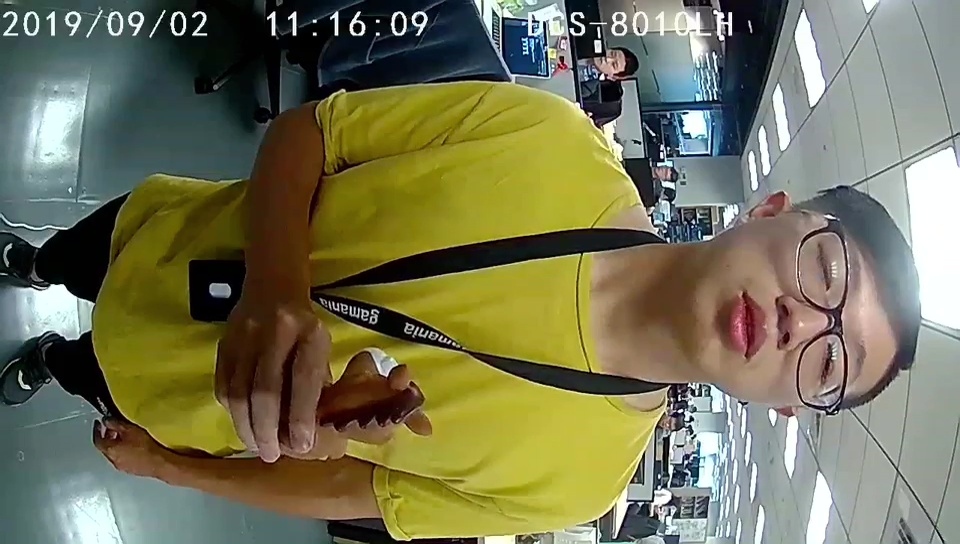horse: (320, 346, 434, 459)
